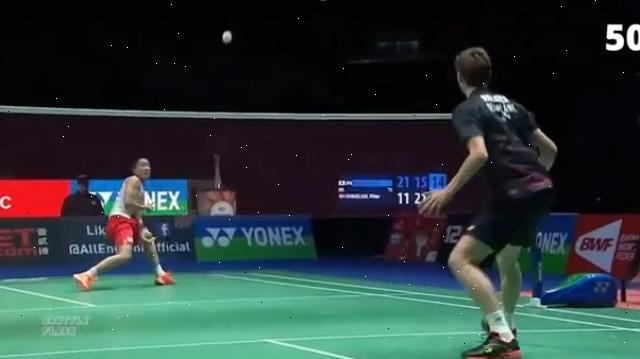Shuttlecock: (220, 27, 234, 47)
